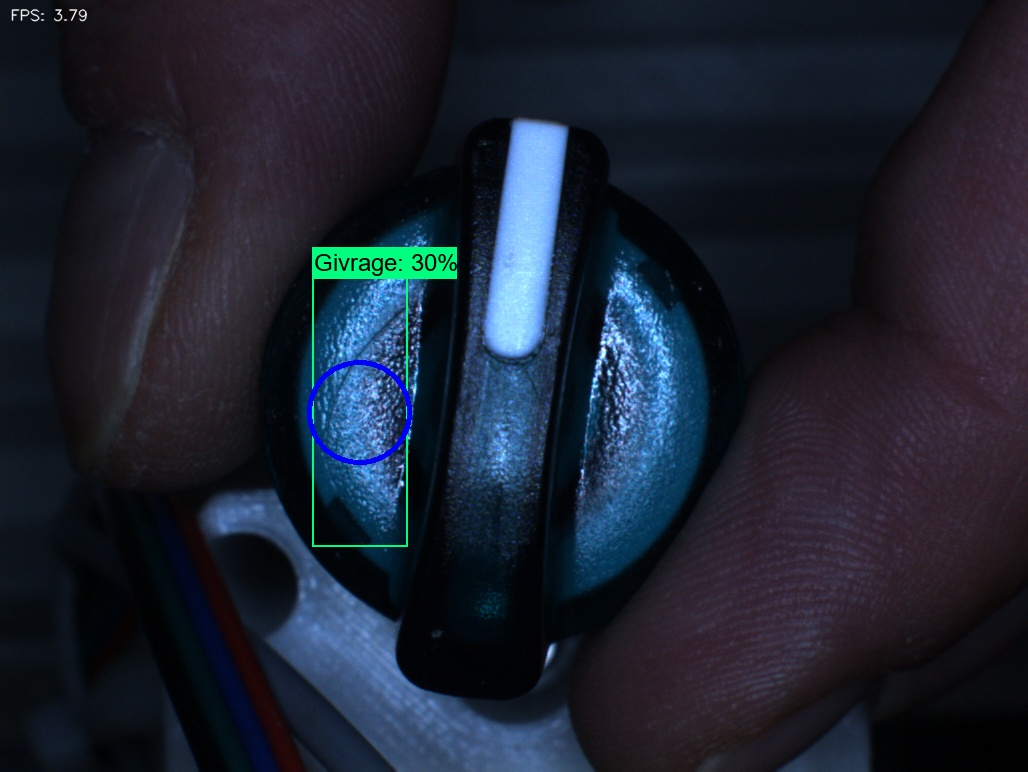PointNoir: (471, 221, 548, 294)
